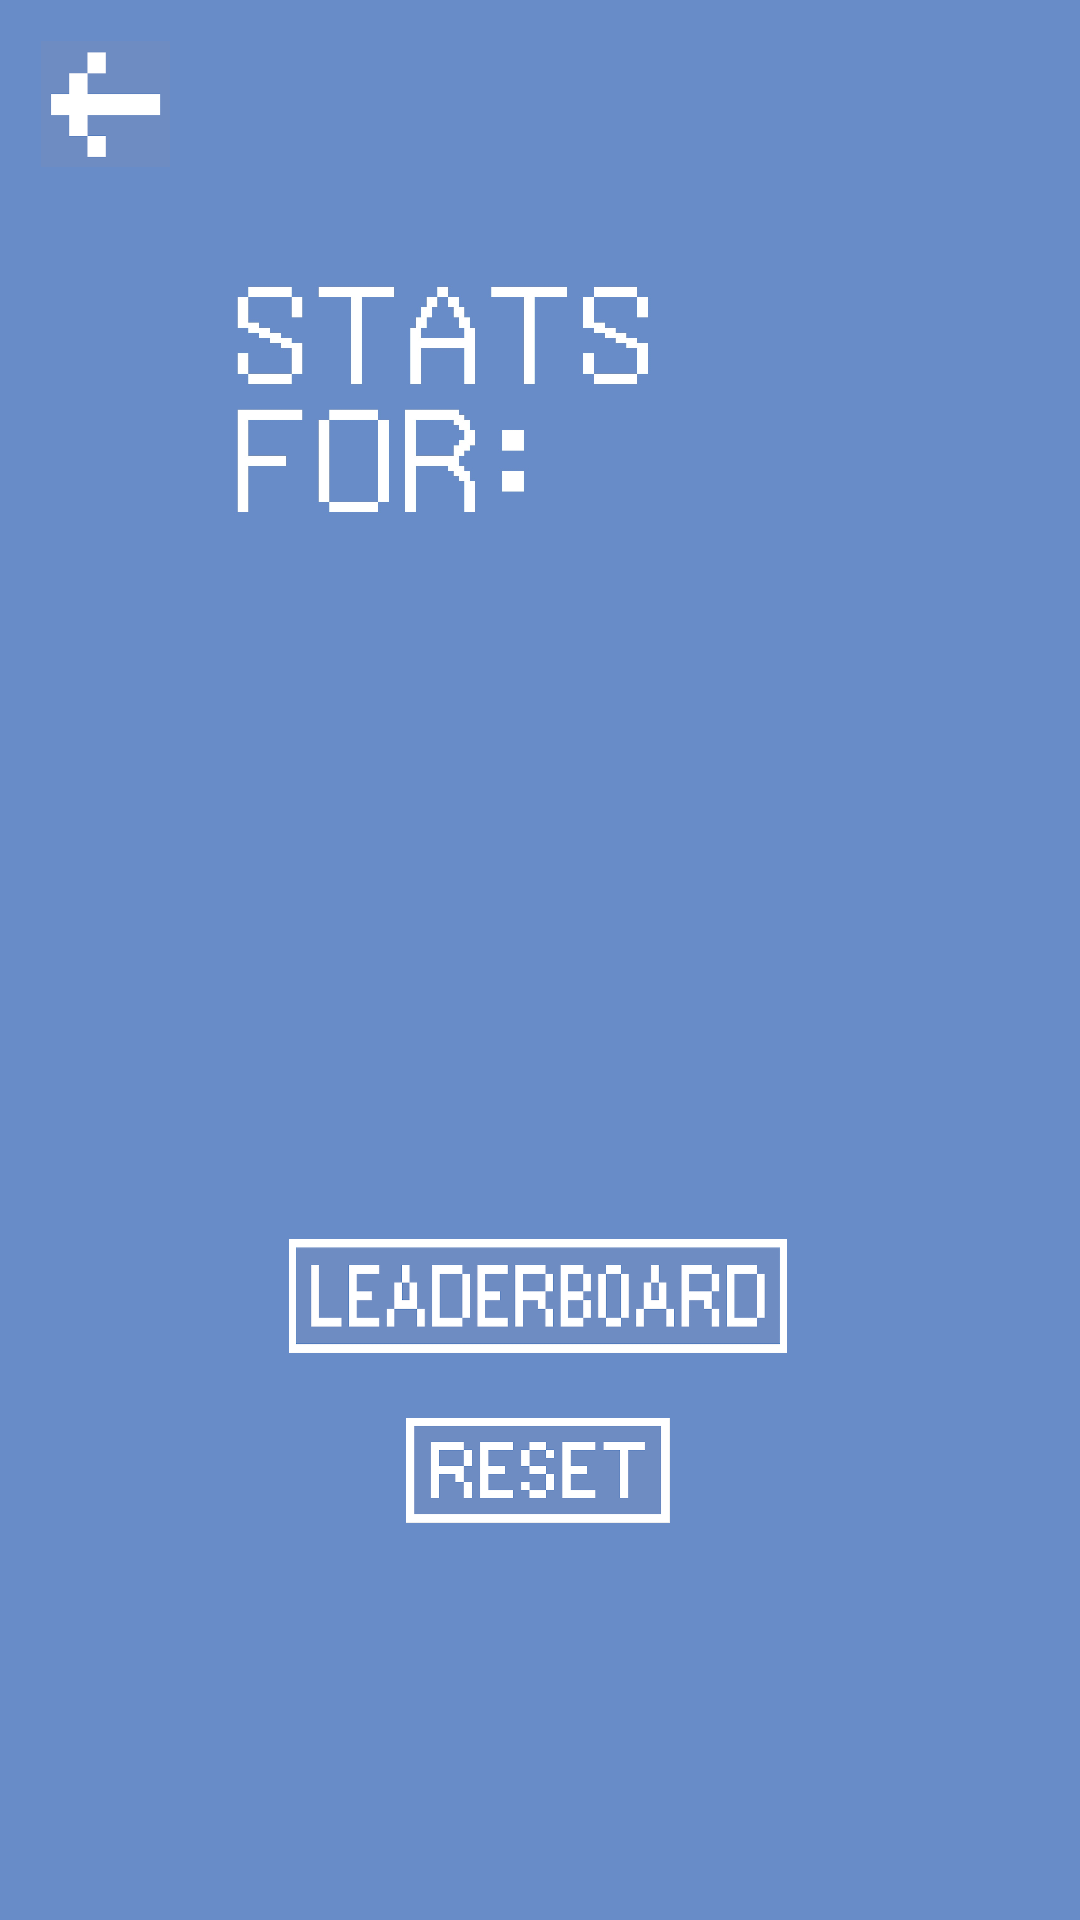

Point at icon controls on the screen. Image size 1080w x 1920h, points as [x,y].
backbutton: [105,104]
